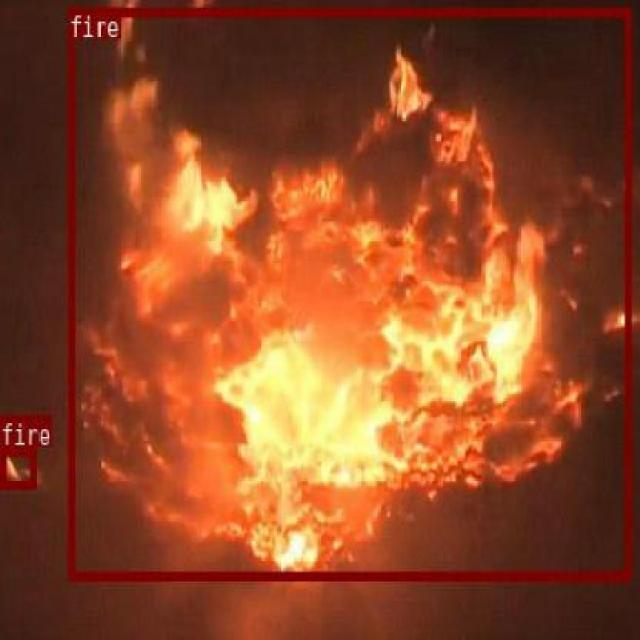Fire: (67, 6, 630, 579), (0, 444, 34, 486)
